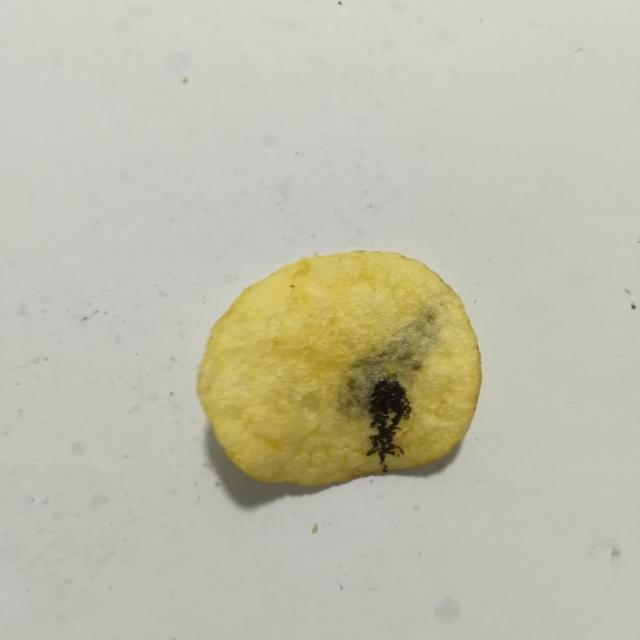chip: (197, 251, 482, 485)
damaged: (367, 377, 411, 473)
semi-damaged: (339, 304, 440, 420)
